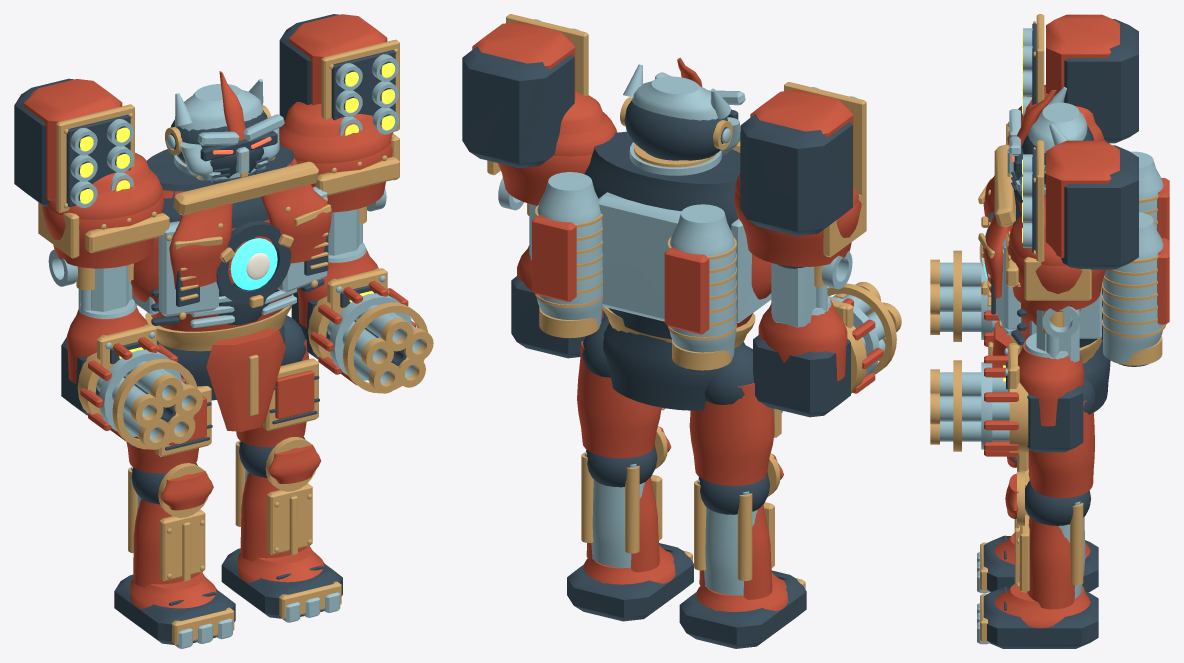
File: ForgeColossus.glb
The picture shows the model from 3 angles, left to right: view 1: azimuth 30°, elevation 25°; view 2: azimuth 150°, elevation 25°; view 3: azimuth 270°, elevation 25°; orthographic projection. The views are drawn at different scales.
Parts seen in each view (by area): view 1: Torso, Leg_R, Leg_L, RocketPod_L, UpperArm_L, RocketPod_R, Cannon_L, Cannon_R, UpperArm_R, Pelvis, Head, Forearm_L (+1 smaller); view 2: Leg_L, Leg_R, Torso, RocketPod_L, RocketPod_R, Jet_L, Jet_R, Cannon_L, Head, UpperArm_L, Pelvis, UpperArm_R (+2 smaller); view 3: Leg_R, RocketPod_R, RocketPod_L, Cannon_R, Jet_R, UpperArm_R, Torso, Cannon_L, Head, Forearm_R, Leg_L, Jet_L (+2 smaller).
Boxes of the visible parts, <box> form: Torso: <box>130,144,331,331</box>; Leg_R: <box>221,315,342,622</box>; Leg_L: <box>114,341,235,648</box>; RocketPod_L: <box>14,78,134,212</box>; UpperArm_L: <box>38,152,169,313</box>; RocketPod_R: <box>279,14,399,136</box>; Cannon_L: <box>61,337,202,449</box>; Cannon_R: <box>291,280,433,393</box>; UpperArm_R: <box>279,101,399,255</box>; Pelvis: <box>145,294,293,431</box>; Head: <box>165,71,284,183</box>; Forearm_L: <box>66,299,156,383</box>; Leg_L: <box>679,344,806,648</box>; Leg_R: <box>567,317,693,621</box>; Torso: <box>584,131,771,339</box>; RocketPod_L: <box>740,82,866,235</box>; RocketPod_R: <box>462,14,588,168</box>; Jet_L: <box>664,204,736,371</box>; Jet_R: <box>532,172,602,339</box>; Cannon_L: <box>753,282,901,417</box>; Head: <box>620,57,745,160</box>; UpperArm_L: <box>733,173,866,327</box>; Pelvis: <box>602,306,755,410</box>; UpperArm_R: <box>487,91,617,260</box>; Leg_R: <box>977,377,1098,648</box>; RocketPod_R: <box>1022,140,1138,269</box>; RocketPod_L: <box>1022,14,1138,143</box>; Cannon_R: <box>930,355,1083,456</box>; Jet_R: <box>1102,212,1169,366</box>; UpperArm_R: <box>1006,194,1105,362</box>; Torso: <box>978,144,1102,347</box>; Cannon_L: <box>930,250,998,346</box>; Head: <box>1007,87,1093,191</box>; Forearm_R: <box>1003,333,1084,426</box>; Leg_L: <box>977,456,1098,593</box>; Jet_L: <box>1130,151,1169,240</box>.
Bounding box in the file's own units: 3.98 × 5.86 × 2.45.
